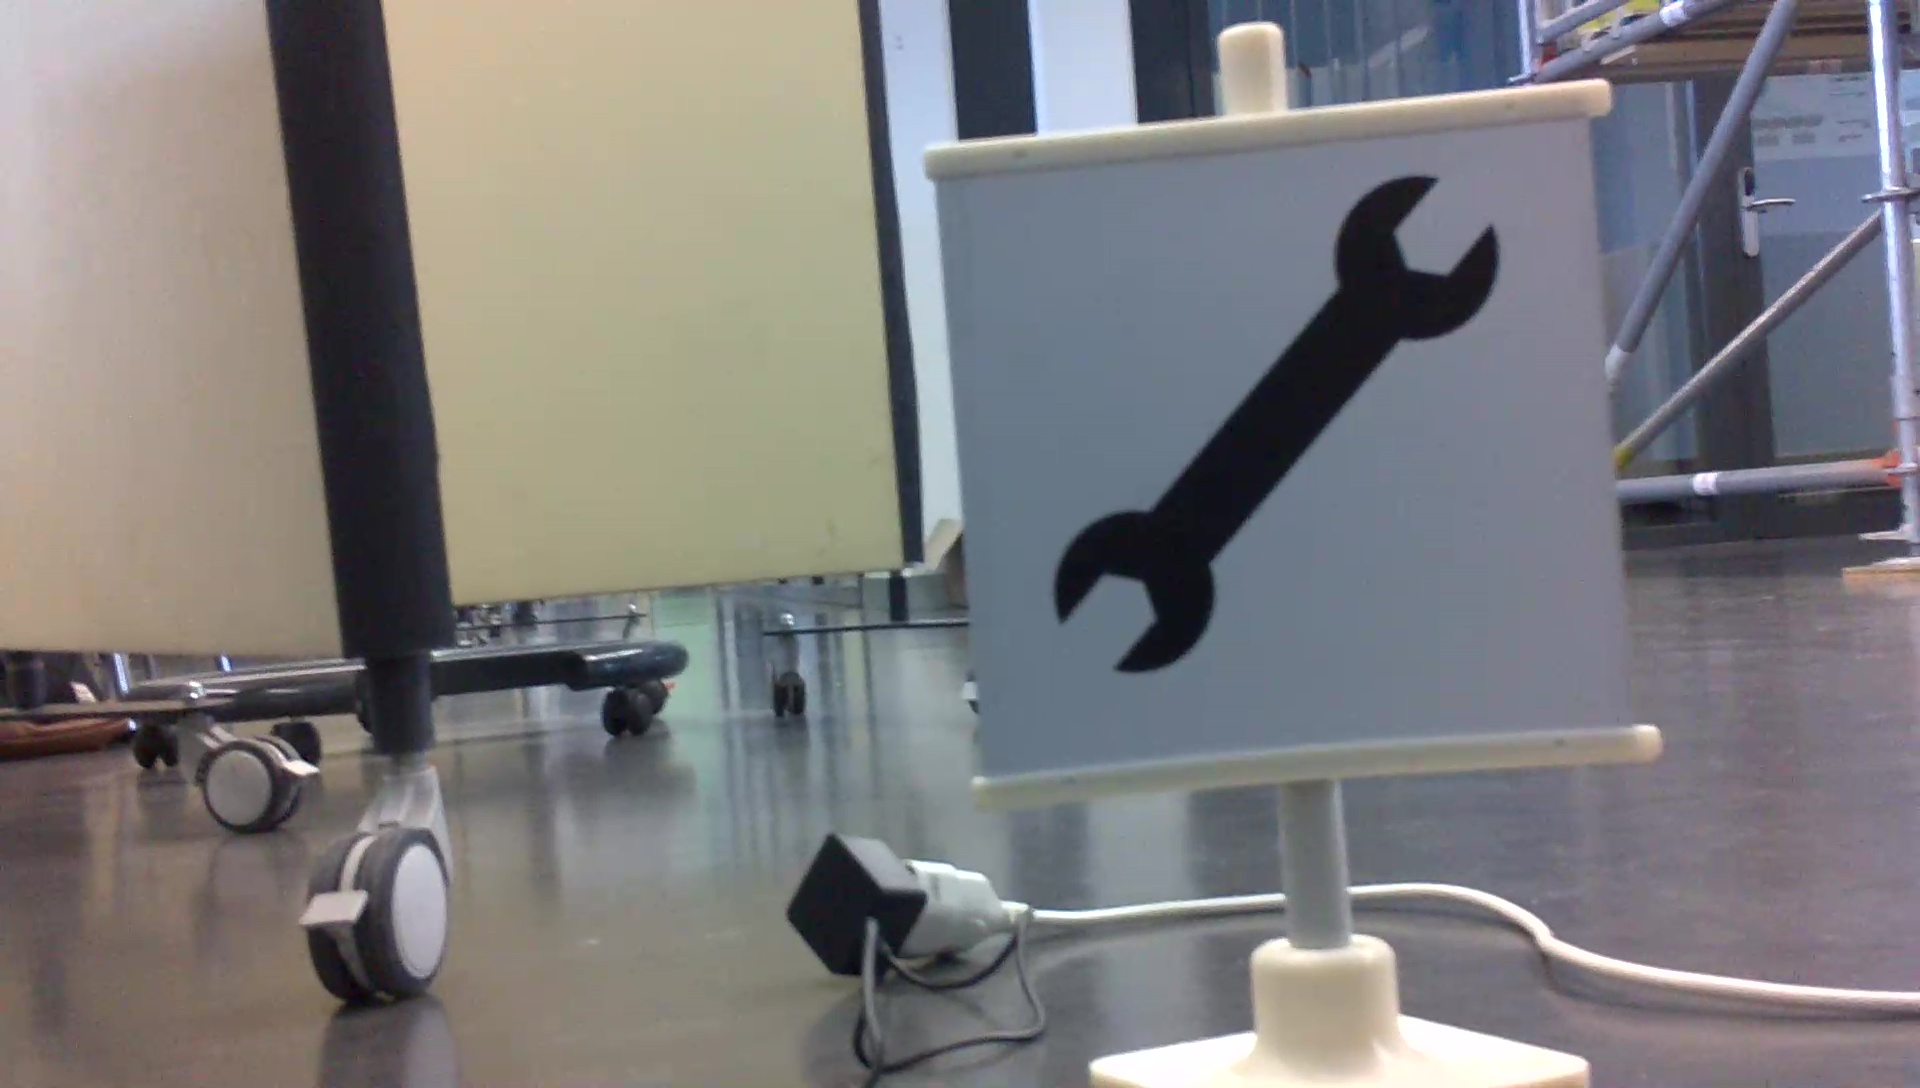wrench: (1035, 167, 1513, 683)
